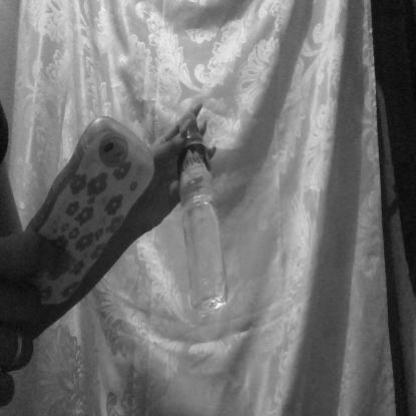Plastic Bottle: (167, 71, 261, 343)
